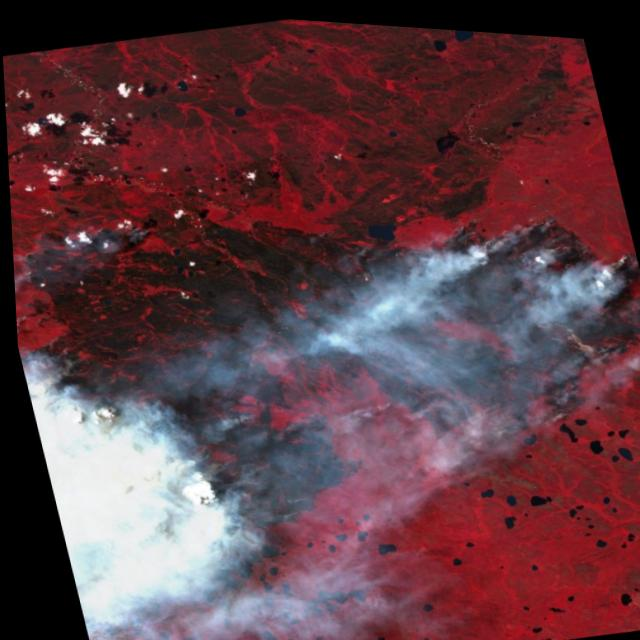fire: (11, 263, 280, 578), (428, 187, 640, 472)
